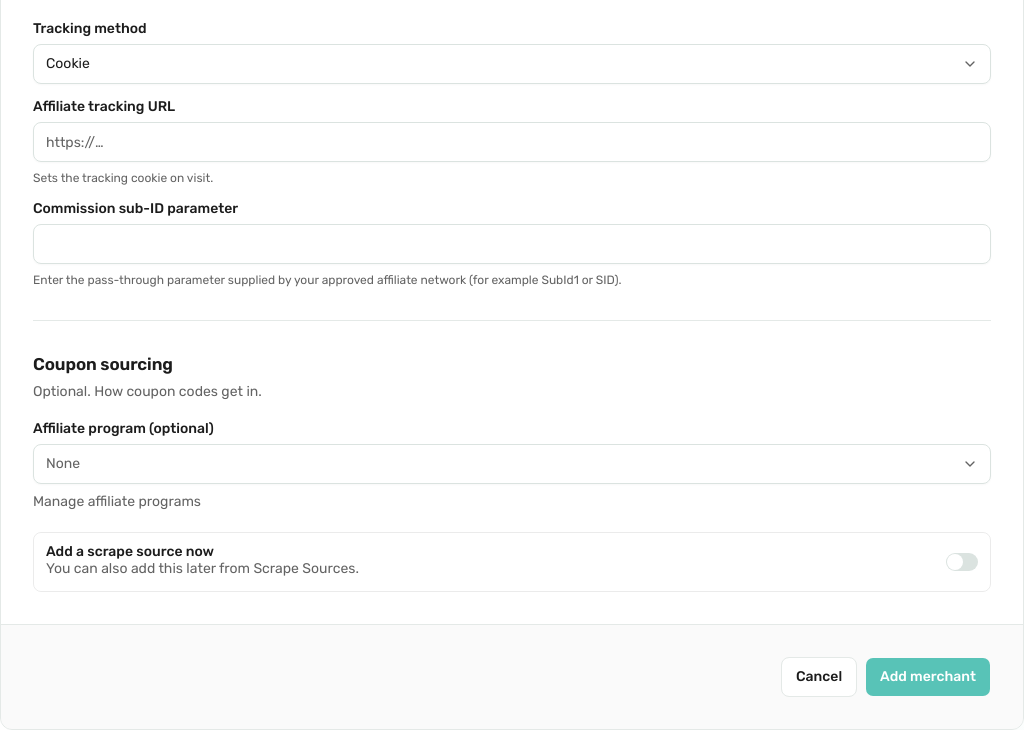
NewMerchantPage › explains what a coupon code selector is, inline
(page scrolled)
The selector fields only appear once you opt into adding a scrape source.
Click the switch named "Add a scrape source now" at coordinates (962, 562), box [946,553,978,571]
(page scrolled)
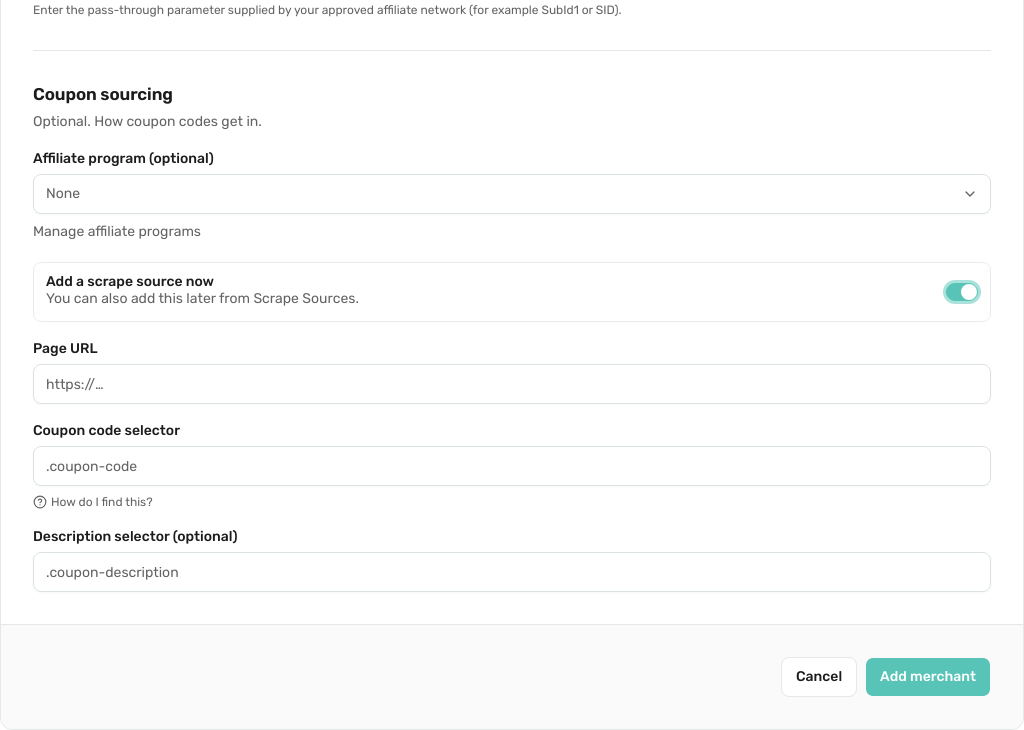
Click the button "How do I find this?" at coordinates (93, 502), box [33,494,153,510]
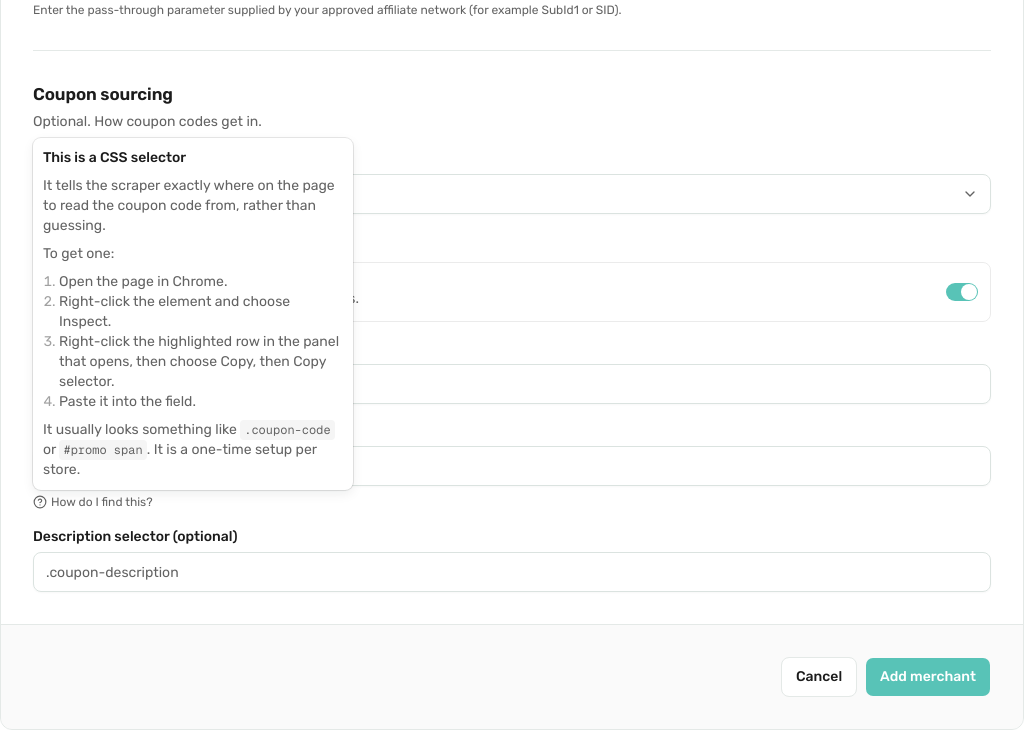
Expected: the text "This is a CSS selector" is shown, [43,149,186,166]
